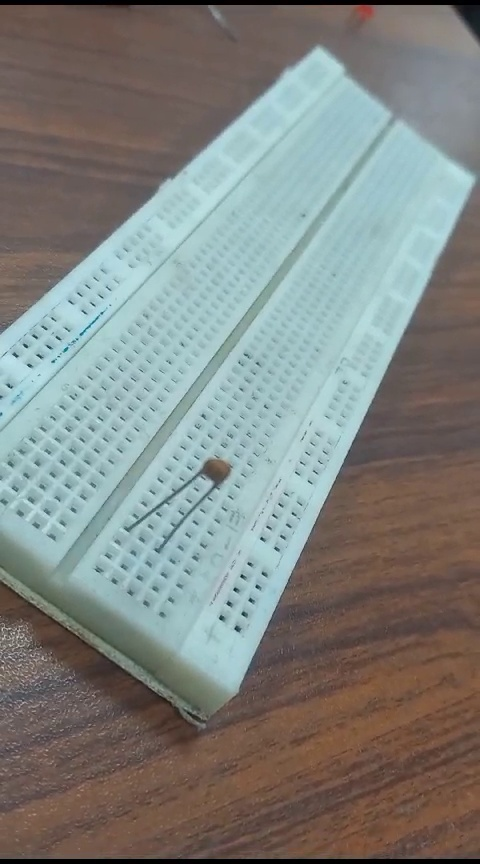ceramic capacitor: (120, 441, 248, 556)
